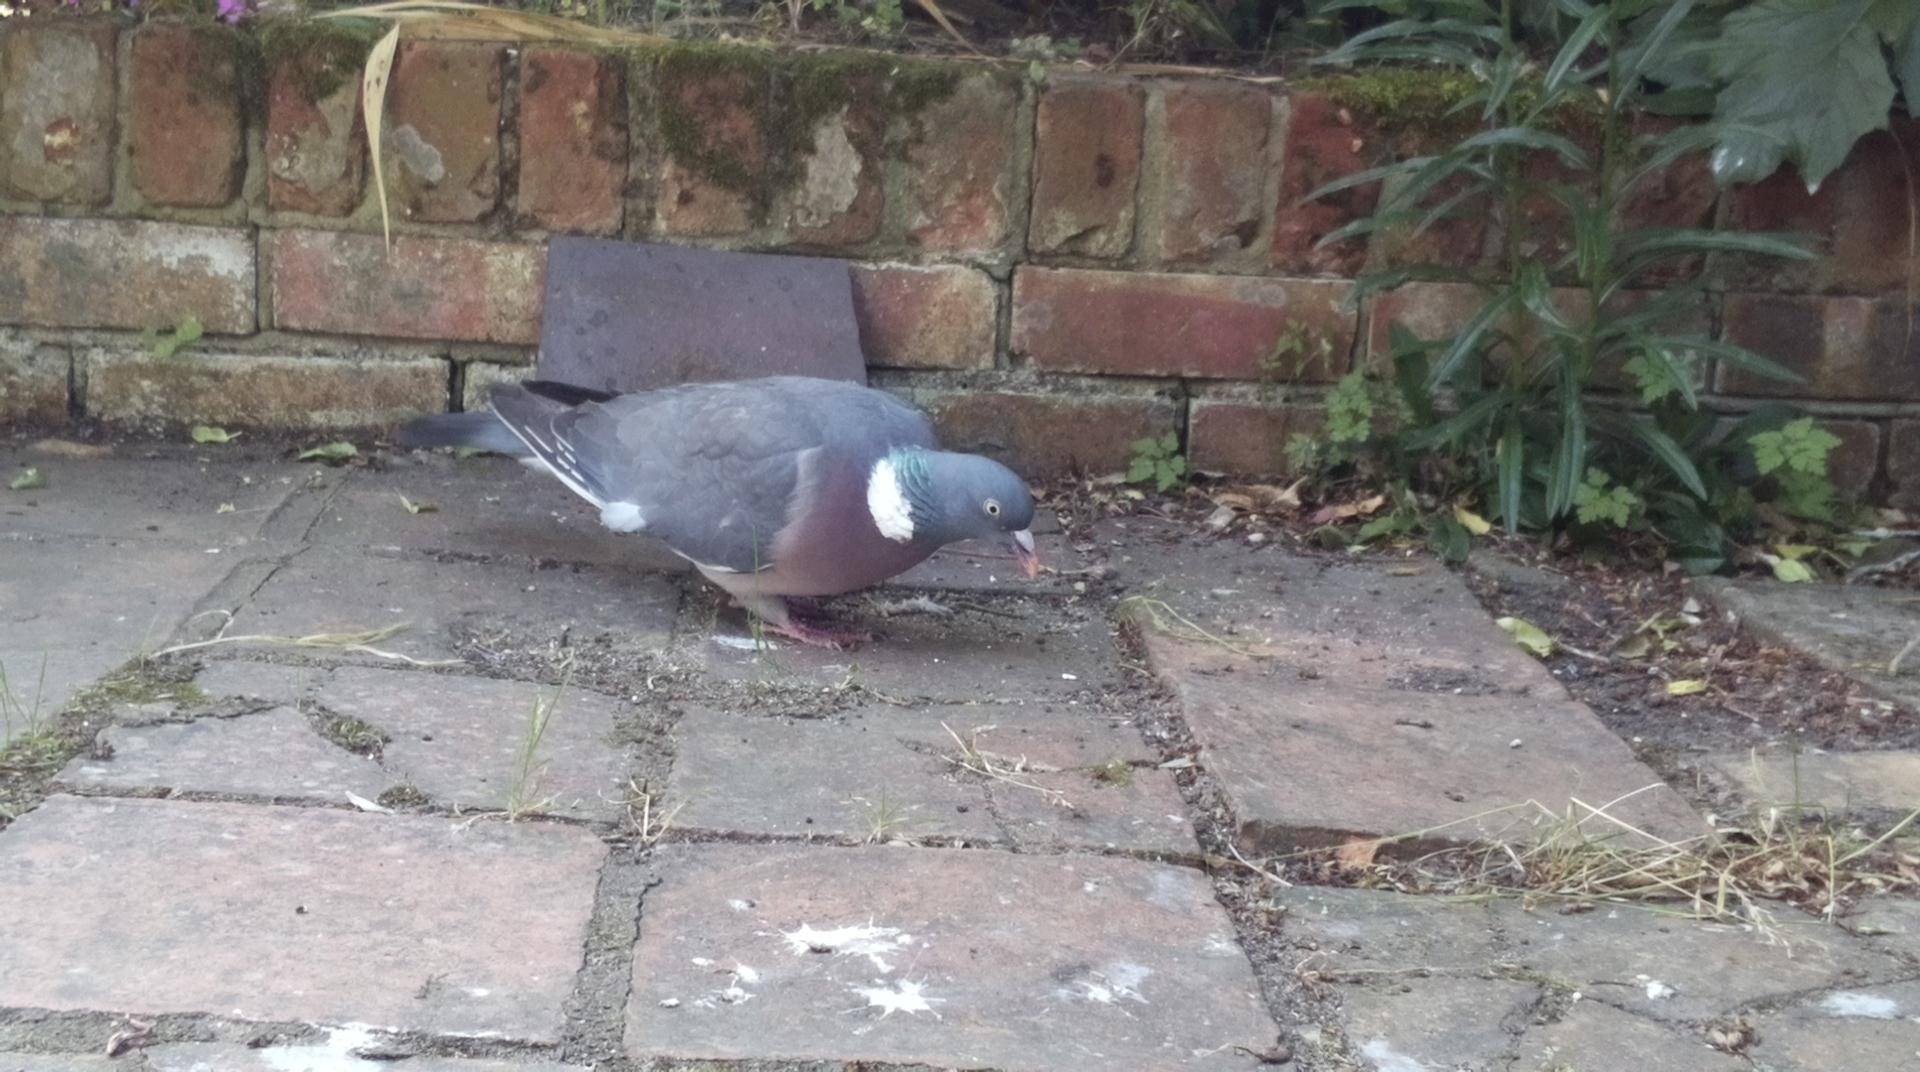wood pigeon: (394, 374, 1036, 657)
